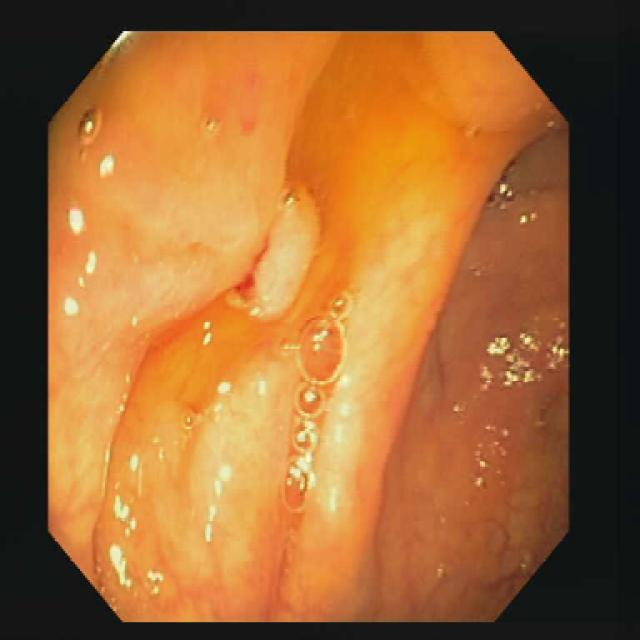tumor: (248, 193, 318, 316)
